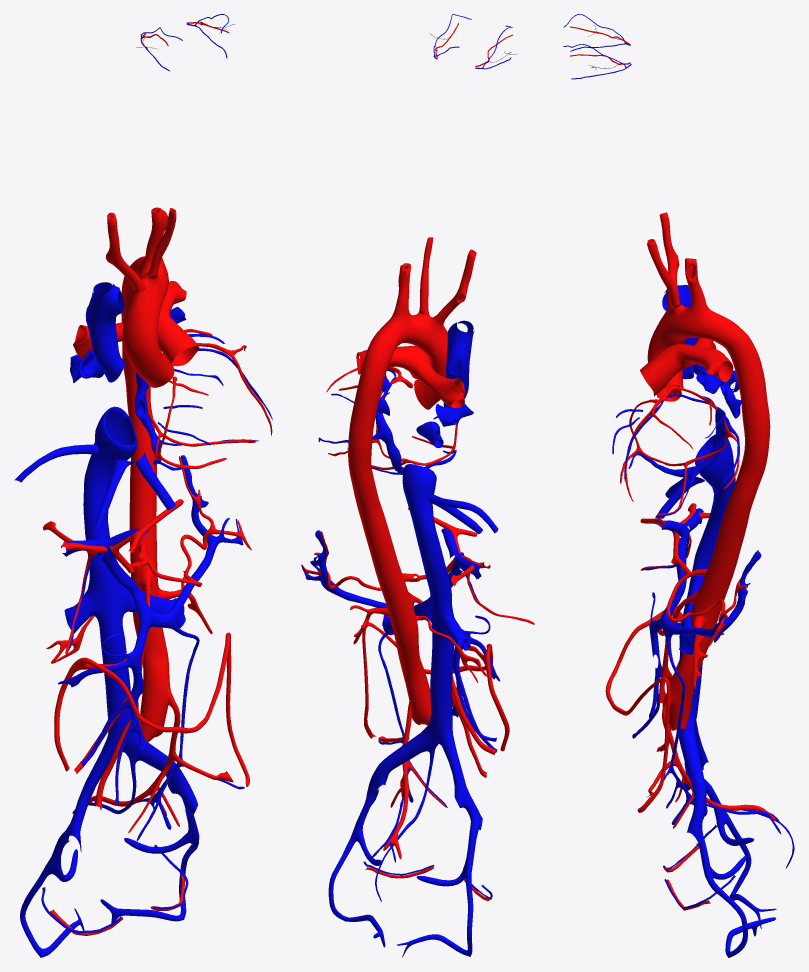
File: blood-vasculature-female.glb
3 renders of one model, left to right at view 1: azimuth 30°, elevation 25°; view 2: azimuth 150°, elevation 25°; view 3: azimuth 270°, elevation 25°, orthographic. The views are drawn at different scales.
Parts seen in each view (by area): view 1: VH_F_inferior_vena_cava_b, VH_F_descending_aorta_b, VH_F_superior_vena_cava, VH_F_marginal_artery_of_Drummond, VH_F_ascending_aorta, VH_F_inferior_vena_cava_a, VH_F_splenic_vein, VH_F_aortic_arch, VH_F_left_common_iliac_vein, VH_F_pulmonary_trunk, VH_F_descending_aorta_a, VH_F_right_common_iliac_vein (+14 smaller); view 2: VH_F_descending_aorta_b, VH_F_inferior_vena_cava_b, VH_F_descending_aorta_a, VH_F_aortic_arch, VH_F_inferior_vena_cava_a, VH_F_left_common_iliac_vein, VH_F_superior_vena_cava, VH_F_marginal_artery_of_Drummond, VH_F_pulmonary_artery_R, VH_F_right_common_iliac_vein, VH_F_splenic_vein, VH_F_ascending_aorta (+6 smaller); view 3: VH_F_descending_aorta_b, VH_F_descending_aorta_a, VH_F_aortic_arch, VH_F_inferior_vena_cava_b, VH_F_left_common_iliac_vein, VH_F_marginal_artery_of_Drummond, VH_F_splenic_vein, VH_F_inferior_vena_cava_a, VH_F_pulmonary_artery_L, VH_F_pulmonary_trunk, VH_F_splenic_artery, VH_F_ascending_aorta (+11 smaller).
Boxes of the visible parts, <box> form: VH_F_inferior_vena_cava_b: <box>83,463,136,752</box>; VH_F_descending_aorta_b: <box>129,444,170,742</box>; VH_F_superior_vena_cava: <box>85,282,124,382</box>; VH_F_marginal_artery_of_Drummond: <box>54,632,249,786</box>; VH_F_ascending_aorta: <box>122,312,174,387</box>; VH_F_inferior_vena_cava_a: <box>88,406,137,476</box>; VH_F_splenic_vein: <box>140,455,243,629</box>; VH_F_aortic_arch: <box>125,256,168,315</box>; VH_F_left_common_iliac_vein: <box>125,733,197,815</box>; VH_F_pulmonary_trunk: <box>158,309,199,366</box>; VH_F_descending_aorta_a: <box>121,276,154,444</box>; VH_F_right_common_iliac_vein: <box>65,736,116,843</box>; VH_F_descending_aorta_b: <box>359,504,430,725</box>; VH_F_inferior_vena_cava_b: <box>412,517,454,745</box>; VH_F_descending_aorta_a: <box>348,347,389,515</box>; VH_F_aortic_arch: <box>368,312,447,360</box>; VH_F_inferior_vena_cava_a: <box>402,464,436,518</box>; VH_F_left_common_iliac_vein: <box>364,724,434,805</box>; VH_F_superior_vena_cava: <box>443,320,474,406</box>; VH_F_marginal_artery_of_Drummond: <box>362,622,509,751</box>; VH_F_pulmonary_artery_R: <box>413,357,464,407</box>; VH_F_right_common_iliac_vein: <box>441,729,482,829</box>; VH_F_splenic_vein: <box>301,530,386,607</box>; VH_F_ascending_aorta: <box>414,347,447,409</box>; VH_F_descending_aorta_b: <box>668,498,751,730</box>; VH_F_descending_aorta_a: <box>724,332,770,509</box>; VH_F_aortic_arch: <box>658,304,744,346</box>; VH_F_inferior_vena_cava_b: <box>679,480,735,726</box>; VH_F_left_common_iliac_vein: <box>679,718,707,843</box>; VH_F_marginal_artery_of_Drummond: <box>605,609,682,812</box>; VH_F_splenic_vein: <box>661,551,761,642</box>; VH_F_inferior_vena_cava_a: <box>695,434,735,493</box>; VH_F_pulmonary_artery_L: <box>676,344,733,382</box>; VH_F_pulmonary_trunk: <box>640,344,694,394</box>; VH_F_splenic_artery: <box>666,550,758,647</box>; VH_F_ascending_aorta: <box>647,324,685,401</box>.
Size of the model in its own units: 0.1927 by 0.7992 by 0.1849.
